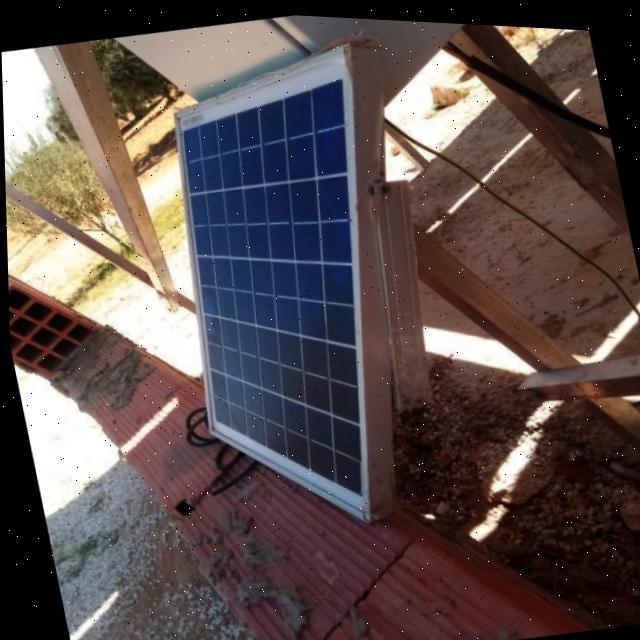Normal Solar Panel: (134, 33, 441, 542)
